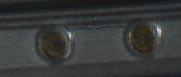joints: (33, 24, 74, 64), (123, 18, 163, 56)
